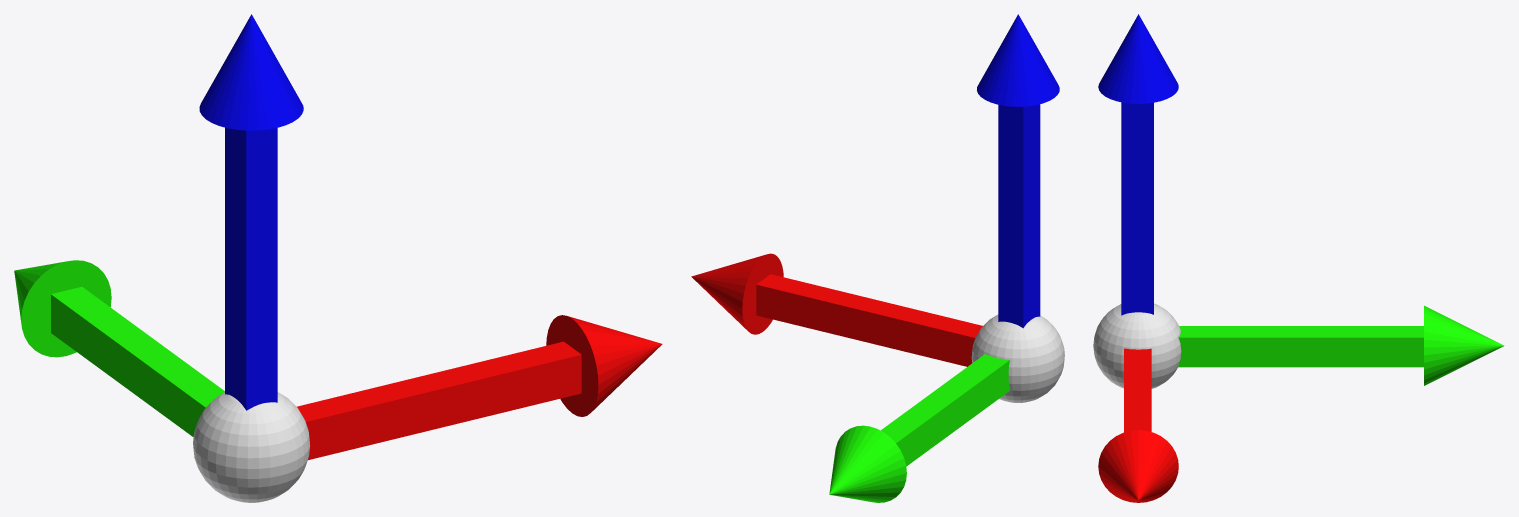
Rendered from xyz-axis.glb.
3 views of the same model, side by side, from view 1: azimuth 30°, elevation 25°; view 2: azimuth 150°, elevation 25°; view 3: azimuth 270°, elevation 25° (orthographic). The views are drawn at different scales.
Parts seen in each view (by area): view 1: right, up, dir, Sphere, up-cone, right-cone, dir-cone; view 2: right, up, dir, Sphere, dir-cone, up-cone, right-cone; view 3: dir, up, Sphere, right-cone, up-cone, dir-cone, right.
Boxes of the visible parts, x1,y1,x2,y2 form: right: [297, 341, 581, 459]; up: [225, 127, 277, 410]; dir: [51, 286, 224, 436]; Sphere: [193, 392, 309, 502]; up-cone: [199, 14, 303, 130]; right-cone: [546, 315, 662, 416]; dir-cone: [14, 260, 111, 357]; right: [756, 274, 982, 366]; up: [998, 104, 1040, 328]; dir: [881, 354, 1010, 466]; Sphere: [971, 314, 1064, 402]; dir-cone: [829, 425, 906, 502]; up-cone: [977, 14, 1059, 106]; right-cone: [691, 253, 783, 334]; dir: [1178, 326, 1423, 367]; up: [1121, 102, 1153, 315]; Sphere: [1093, 303, 1181, 388]; right-cone: [1098, 430, 1178, 502]; up-cone: [1098, 14, 1178, 103]; dir-cone: [1424, 305, 1504, 385]; right: [1124, 348, 1151, 432].
Size of the model in its own units: 1.38 by 1.38 by 1.38.
